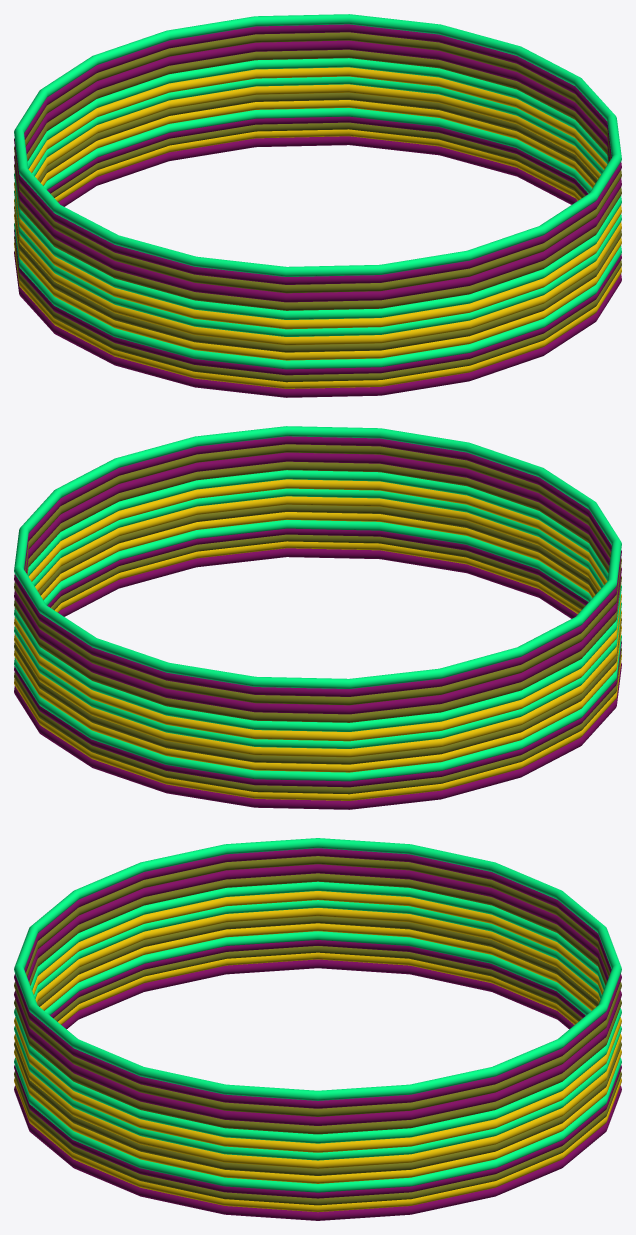
The model's file is Defense1.obj.
3 views of the same model, one above another, from view 1: azimuth 30°, elevation 25°; view 2: azimuth 150°, elevation 25°; view 3: azimuth 270°, elevation 25° (orthographic).
Visible parts, largest first — view 1: pTorus16, pTorus5, pTorus6, pTorus3, pTorus11, pTorus4, pTorus13, pTorus8, pTorus2, pTorus1, pTorus7, pTorus10 (+4 smaller); view 2: pTorus16, pTorus5, pTorus6, pTorus3, pTorus11, pTorus4, pTorus13, pTorus8, pTorus2, pTorus1, pTorus7, pTorus10 (+4 smaller); view 3: pTorus16, pTorus5, pTorus6, pTorus3, pTorus11, pTorus4, pTorus8, pTorus2, pTorus13, pTorus1, pTorus7, pTorus10 (+4 smaller).
Boxes of the visible parts, x1,y1,x2,y2 form: pTorus16: [14, 14, 621, 276]; pTorus5: [14, 58, 621, 319]; pTorus6: [14, 67, 621, 329]; pTorus3: [14, 40, 621, 302]; pTorus11: [14, 108, 621, 369]; pTorus4: [14, 49, 621, 310]; pTorus13: [14, 136, 621, 397]; pTorus8: [14, 84, 621, 345]; pTorus2: [14, 32, 621, 293]; pTorus1: [14, 24, 621, 284]; pTorus7: [14, 76, 621, 336]; pTorus10: [14, 100, 621, 360]; pTorus16: [14, 426, 621, 688]; pTorus5: [14, 470, 621, 731]; pTorus6: [14, 479, 621, 741]; pTorus3: [14, 452, 621, 714]; pTorus11: [14, 520, 621, 781]; pTorus4: [14, 461, 621, 722]; pTorus13: [14, 548, 621, 809]; pTorus8: [14, 496, 621, 757]; pTorus2: [14, 444, 621, 705]; pTorus1: [14, 436, 621, 696]; pTorus7: [14, 488, 621, 748]; pTorus10: [14, 512, 621, 772]; pTorus16: [14, 838, 621, 1100]; pTorus5: [14, 881, 621, 1143]; pTorus6: [14, 891, 621, 1152]; pTorus3: [14, 864, 621, 1125]; pTorus11: [14, 931, 621, 1192]; pTorus4: [14, 873, 621, 1134]; pTorus8: [14, 908, 621, 1168]; pTorus2: [14, 856, 621, 1116]; pTorus13: [14, 959, 621, 1220]; pTorus1: [14, 848, 621, 1108]; pTorus7: [14, 900, 621, 1160]; pTorus10: [14, 923, 621, 1183].
Bounding box in the file's own units: 2.02 × 0.4751 × 2.02.
